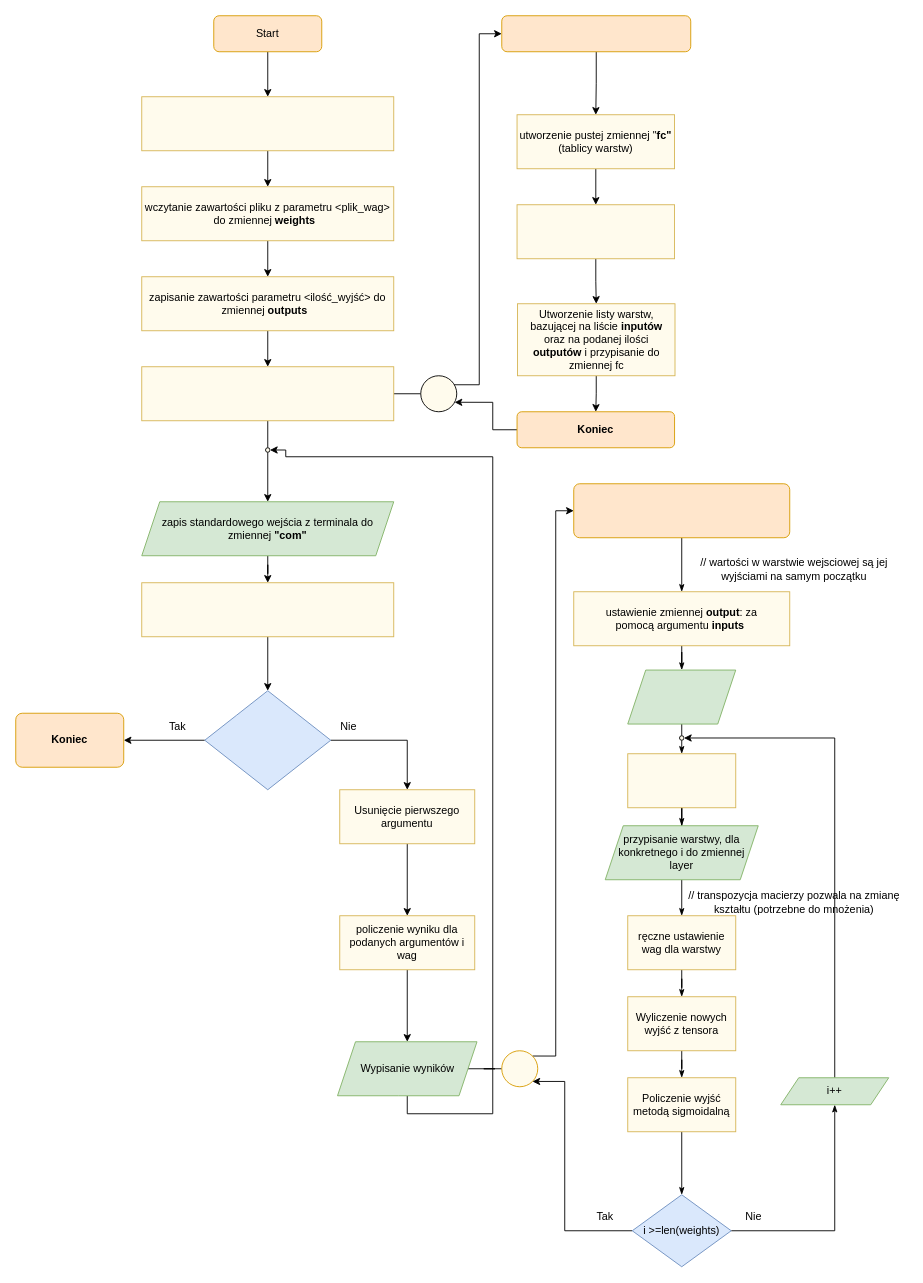
Some shapes in this 923 by 1283 pixel diagram are drawn without their labels. The centre of each missing label's shape, as x and y in pixels:
dodanie do tablicy output , jednego elementu bias: (x=681, y=780)
i = 0: (x=681, y=696)
metoda : n.calc(weights, inputs): (x=681, y=510)
net(inputs: List, outputs: Number): (x=596, y=33)
pierwszy element to 0: (x=267, y=740)
rozbicie tekstu po spacji do listy argumentów: (x=267, y=609)
Uruchomienie programu: python3 main_2.py <plik_wag> <ilość_wyjść>: (x=267, y=123)
utworzenie obiektu " n " klasy " net ": (x=267, y=393)
utworzenie zmiennej " sig" (oznaczającej funkcję sigmoid): (x=595, y=231)
